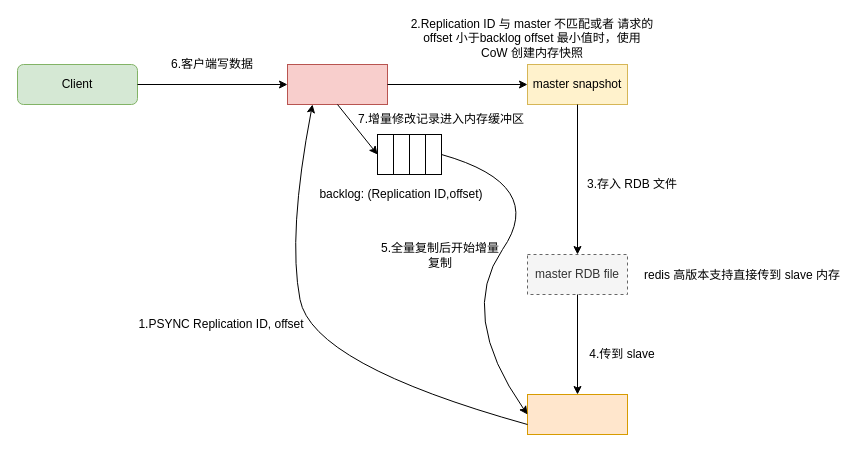
The diagram is 865 pixels wide and 452 high, and some of its shapes have lost their labels. Here are the shapes that lost their labels. From the top down, the centre of each, then its label:
At pixel 337 84: "master mem".
At pixel 577 414: "slave mem".
